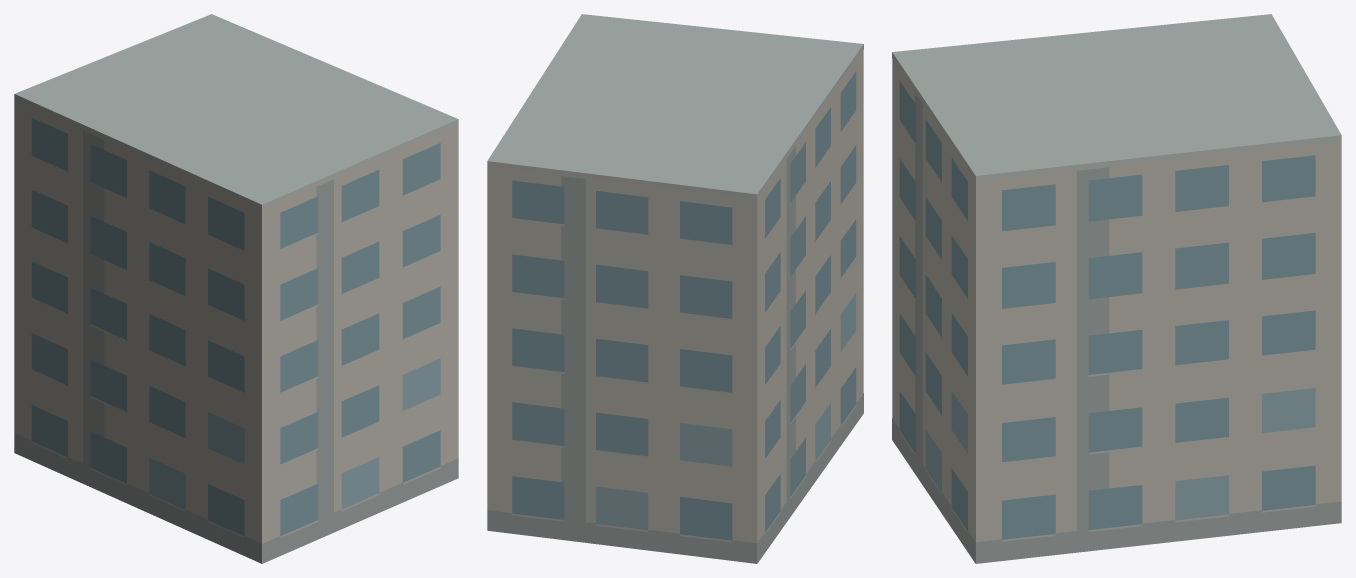
The model's file is survey-upis-32807554.glb.
3 renders of one model, left to right at view 1: azimuth 30°, elevation 25°; view 2: azimuth 150°, elevation 25°; view 3: azimuth 270°, elevation 25°, orthographic. The views are drawn at different scales.
Visible parts, largest first — view 1: survey-upis-32807554.tmp; view 2: survey-upis-32807554.tmp; view 3: survey-upis-32807554.tmp.
Boxes of the visible parts, box(x1,y1,x2,y2) form: survey-upis-32807554.tmp: box(14, 14, 458, 563); survey-upis-32807554.tmp: box(487, 14, 863, 563); survey-upis-32807554.tmp: box(892, 14, 1341, 563).
Size of the model in its own units: 13.67 by 15.25 by 16.03.
